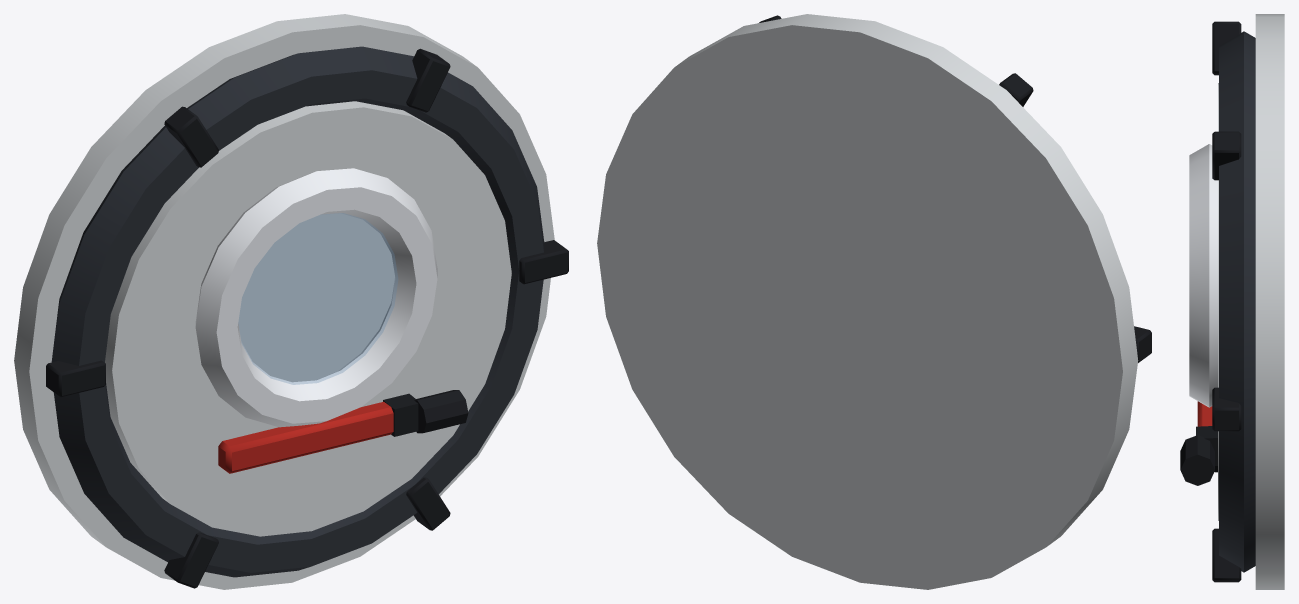
The model's file is hatch_porthole_round.glb.
3 renders of one model, left to right at view 1: azimuth 30°, elevation 25°; view 2: azimuth 150°, elevation 25°; view 3: azimuth 270°, elevation 25°, orthographic. The views are drawn at different scales.
Parts seen in each view (by area): view 1: hatch_porthole_round; view 2: hatch_porthole_round; view 3: hatch_porthole_round.
Boxes of the visible parts, x1,y1,x2,y2 form: hatch_porthole_round: (14,14,568,589); hatch_porthole_round: (597,14,1151,589); hatch_porthole_round: (1180,14,1284,589).
Bounding box in the file's own units: 1 × 1 × 0.18.
